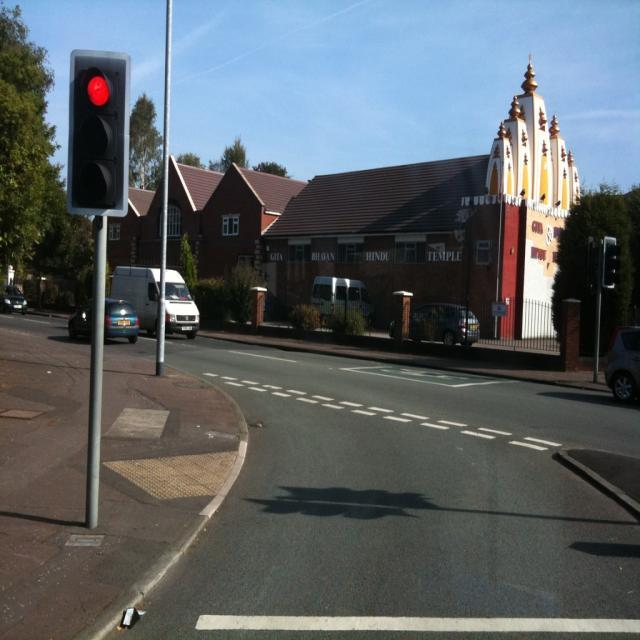traffic light: (68, 45, 128, 220)
